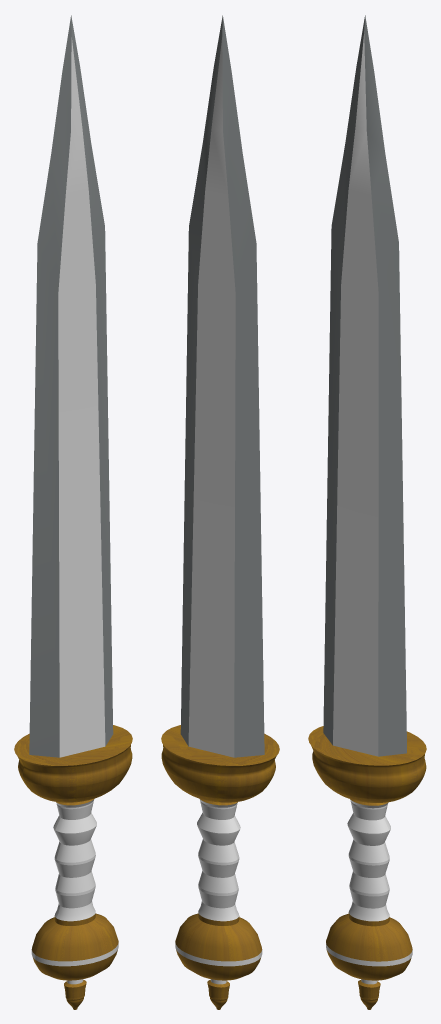
File: Sword.fbx
3 renders of one model, left to right at view 1: azimuth 30°, elevation 25°; view 2: azimuth 150°, elevation 25°; view 3: azimuth 330°, elevation 25°, orthographic.
Visible parts, largest first — view 1: Blade; view 2: Blade; view 3: Blade.
Boxes of the visible parts, x1,y1,x2,y2 form: Blade: (14,15,132,1009); Blade: (161,15,279,1009); Blade: (308,15,426,1009).
Size of the model in its own units: 91.29 by 800 by 69.71.
Materials: 5 (1 with a texture image).
